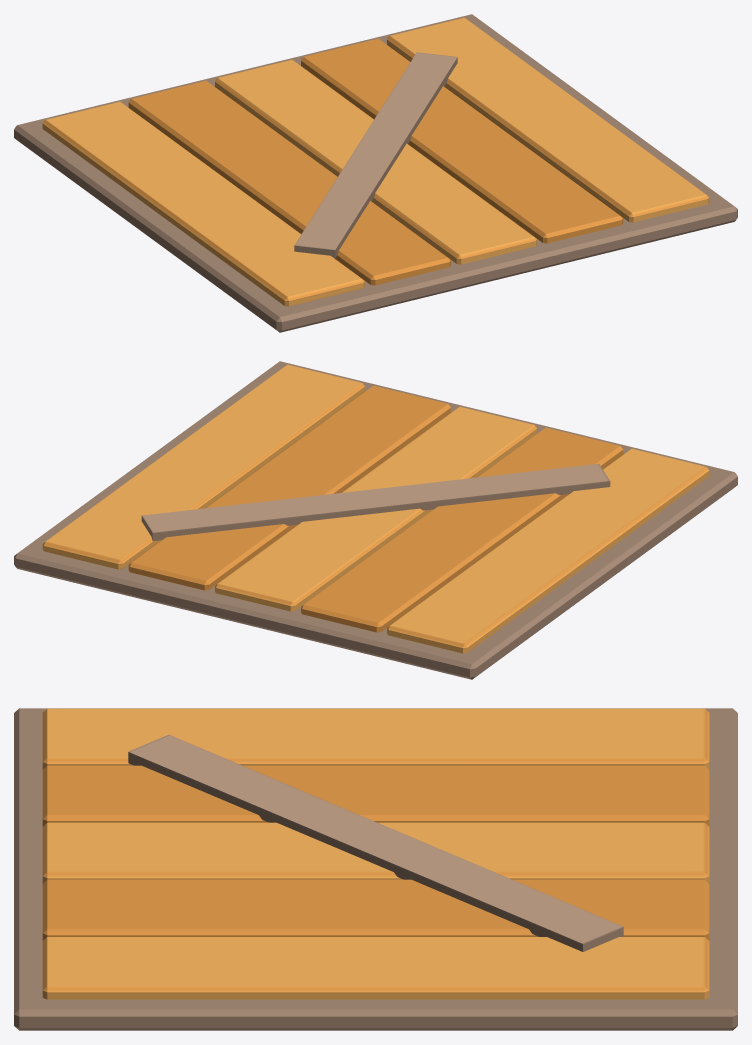
The model's file is FoodContainerLid.fbx.
3 renders of one model, top to bottom at view 1: azimuth 30°, elevation 25°; view 2: azimuth 150°, elevation 25°; view 3: azimuth 270°, elevation 25°, orthographic. The views are drawn at different scales.
Parts seen in each view (by area): view 1: FoodContainerLid; view 2: FoodContainerLid; view 3: FoodContainerLid.
Part boxes in pixels (<box>): FoodContainerLid: <box>14,14,737,332</box>; FoodContainerLid: <box>14,361,737,679</box>; FoodContainerLid: <box>14,708,737,1030</box>.
Size of the model in its own units: 402 by 25 by 402.
1 material, 1 textured.
